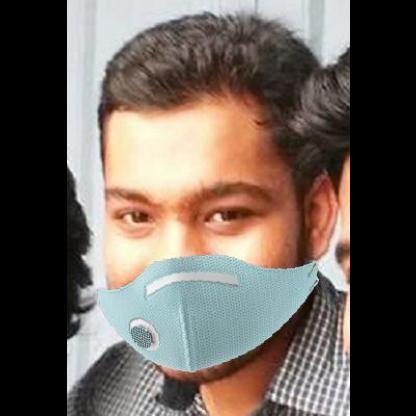FFP Mask: (92, 117, 322, 363)
